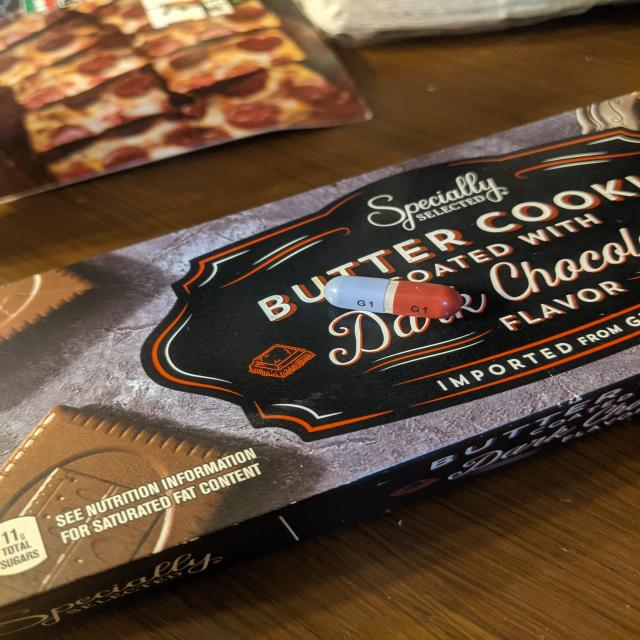non-organic waste: (323, 274, 465, 320)
